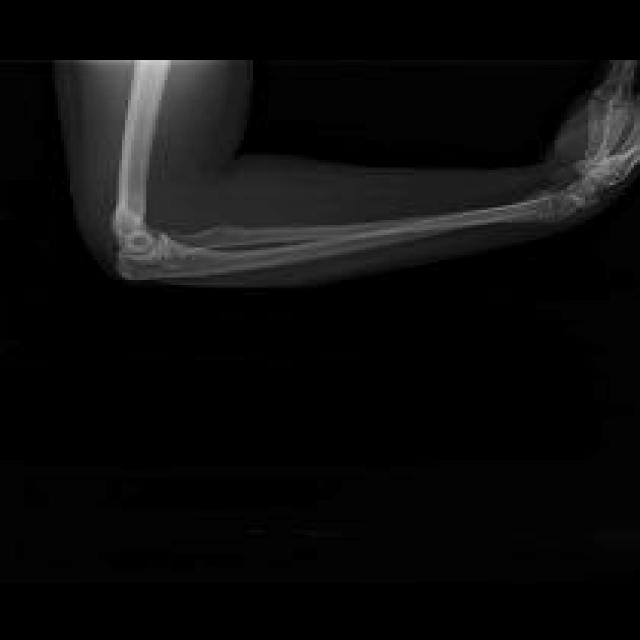normal: (111, 61, 638, 279)
